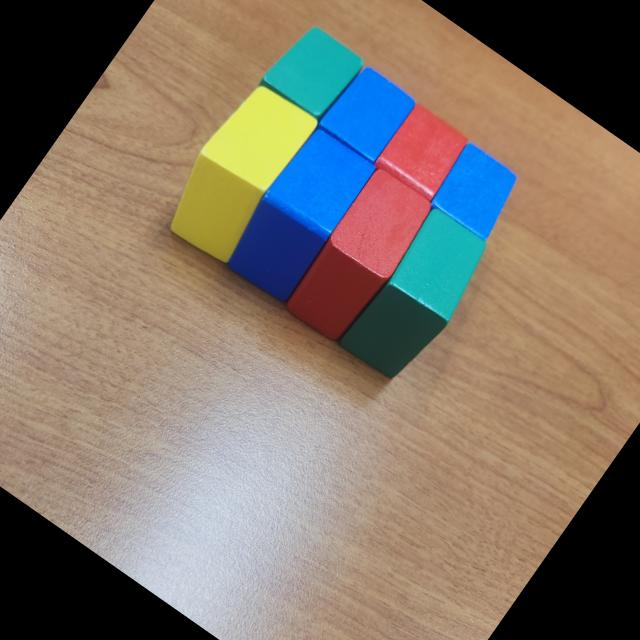blue: (216, 121, 380, 307), (310, 59, 419, 172), (424, 139, 528, 244)
green: (335, 203, 500, 390), (256, 17, 368, 128)
red: (279, 164, 436, 346), (370, 100, 472, 206)
yellow: (152, 75, 322, 268)
